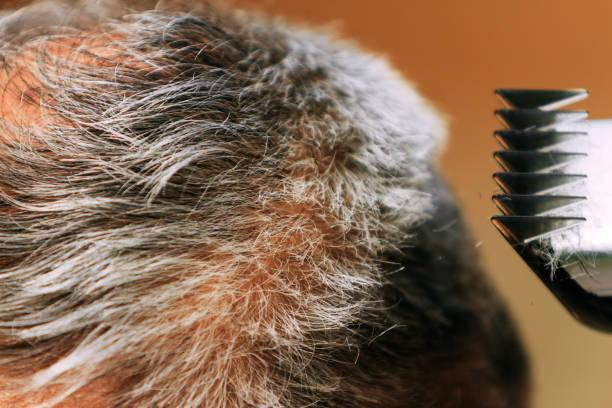grey hair: (14, 194, 164, 225), (133, 138, 258, 171), (47, 254, 146, 292), (304, 307, 362, 333), (364, 323, 406, 348)
low hair density: (206, 248, 254, 334), (274, 195, 313, 285), (2, 44, 40, 136), (295, 126, 326, 177), (90, 375, 131, 403)
